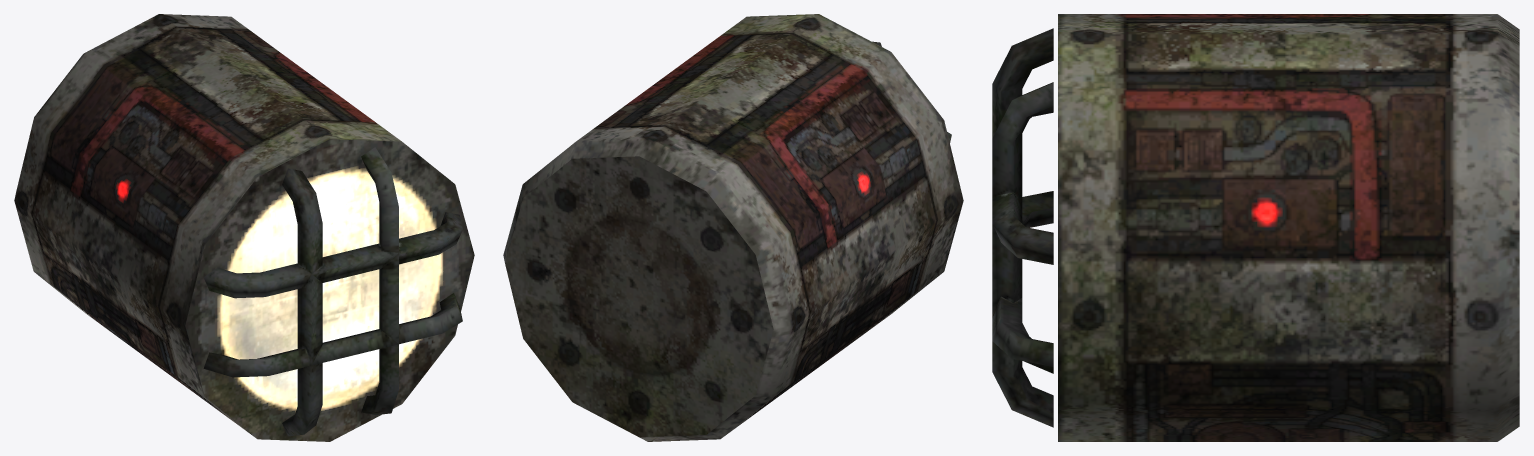
The model's file is spotlight_tripod_flesher_lamp.DAE.
The picture shows the model from 3 angles, left to right: view 1: azimuth 30°, elevation 25°; view 2: azimuth 150°, elevation 25°; view 3: azimuth 270°, elevation 25°; orthographic projection. The views are drawn at different scales.
Visible parts, largest first — view 1: Object006; view 2: Object006; view 3: Object006.
Boxes of the visible parts, <box> form: Object006: <box>14,14,474,441</box>; Object006: <box>503,14,963,441</box>; Object006: <box>992,14,1519,441</box>.
Bounding box in the file's own units: 42.99 × 52.76 × 42.99.
